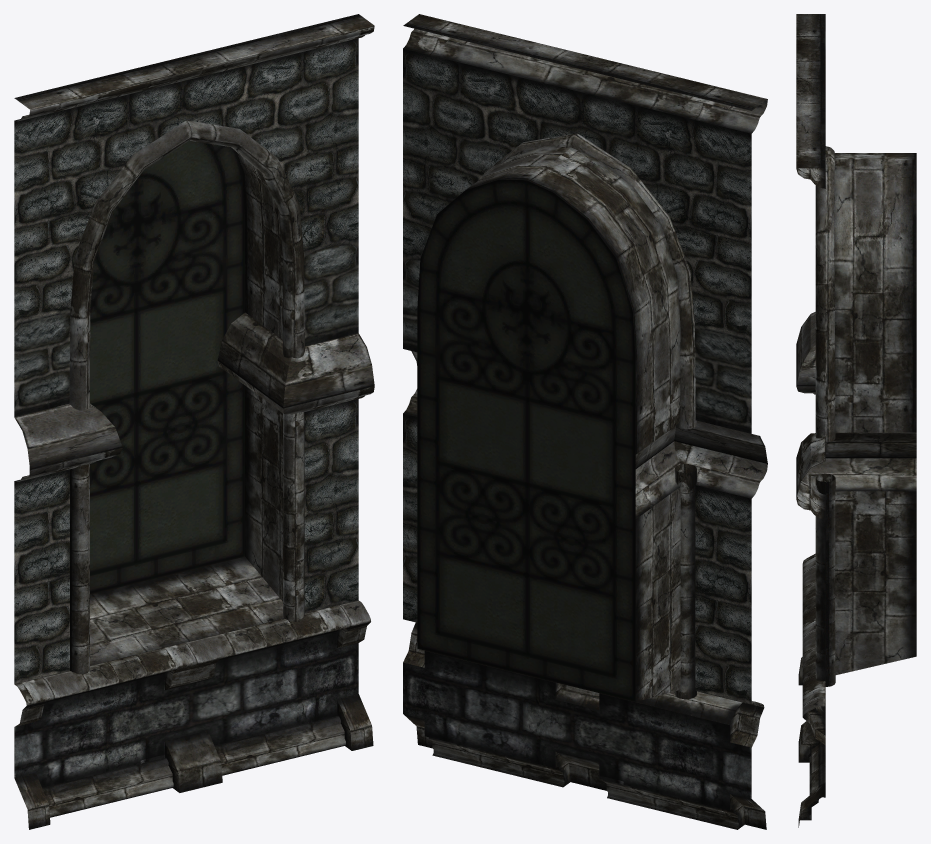
File: window_large_yellow_off.DAE
3 renders of one model, left to right at view 1: azimuth 30°, elevation 25°; view 2: azimuth 150°, elevation 25°; view 3: azimuth 270°, elevation 25°, orthographic. The views are drawn at different scales.
Parts seen in each view (by area): view 1: polySurface158, polySurface134, polySurface141, polySurface159; view 2: polySurface134, polySurface158, polySurface141, polySurface159; view 3: polySurface141, polySurface158.
Boxes of the visible parts, box(x1,y1,x2,y2) form: polySurface158: box(14, 14, 374, 829); polySurface134: box(90, 140, 244, 594); polySurface141: box(29, 120, 304, 674); polySurface159: box(14, 631, 358, 787); polySurface134: box(417, 179, 635, 701); polySurface158: box(403, 14, 767, 829); polySurface141: box(466, 133, 696, 701); polySurface159: box(403, 651, 751, 810); polySurface141: box(815, 146, 916, 686); polySurface158: box(796, 14, 916, 827).
Size of the model in its own units: 4 by 8 by 1.32.
